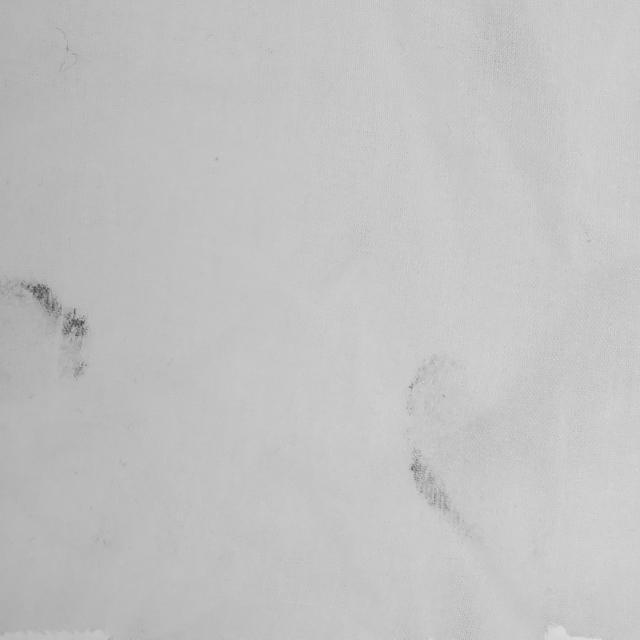Stain: (401, 353, 480, 553), (0, 277, 91, 376)
